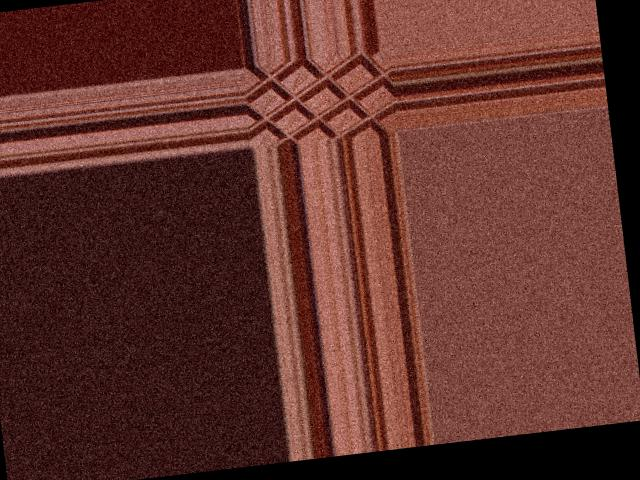chocolate: (246, 48, 398, 146)
